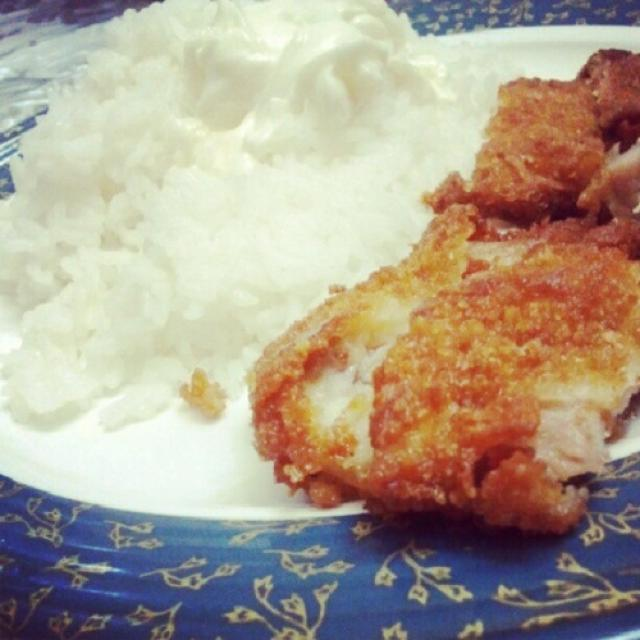鸡肉料理 含炸鸡: (43, 16, 626, 636)
